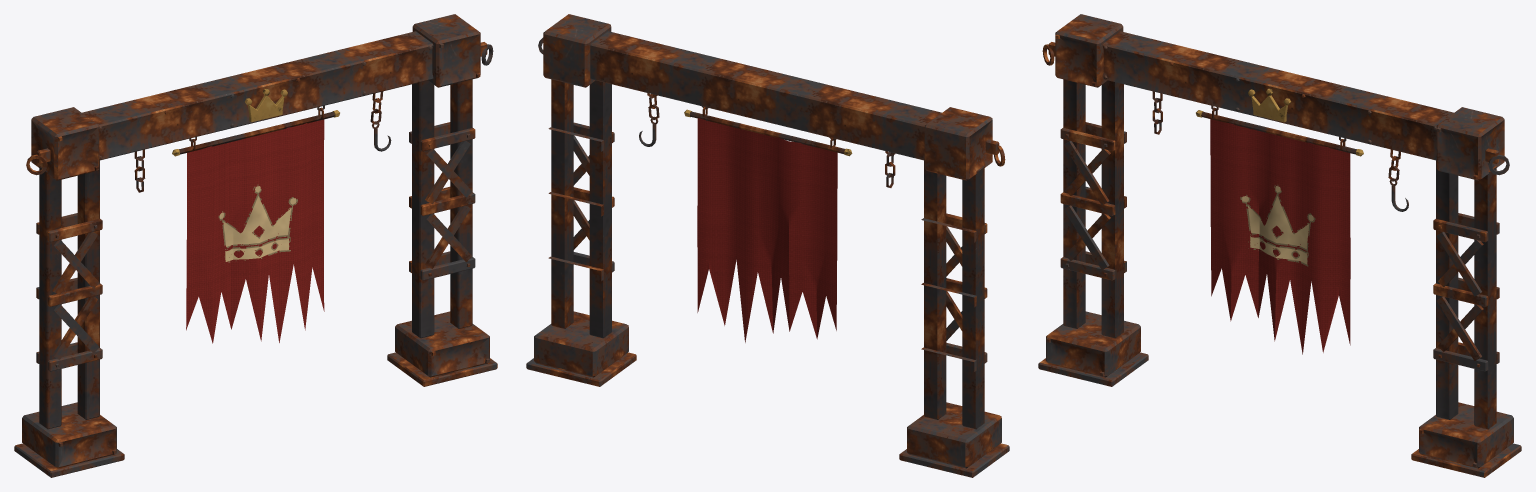
The model's file is Wall_Frame.glb.
3 views of the same model, side by side, from view 1: azimuth 30°, elevation 25°; view 2: azimuth 150°, elevation 25°; view 3: azimuth 330°, elevation 25° (orthographic).
Parts seen in each view (by area): view 1: Wall_Frame; view 2: Wall_Frame; view 3: Wall_Frame.
Part boxes in pixels (left/top/right/bottom): Wall_Frame: left=14, top=14, right=497, bottom=477; Wall_Frame: left=526, top=14, right=1009, bottom=477; Wall_Frame: left=1038, top=14, right=1521, bottom=477.
Bounding box in the file's own units: 4.39 × 3.02 × 0.608.
Materials: 5 (5 with a texture image).
